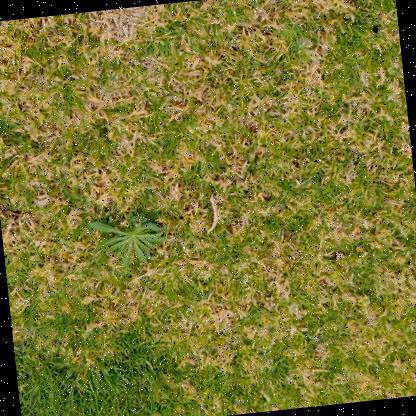Weeds: (88, 210, 168, 269)
